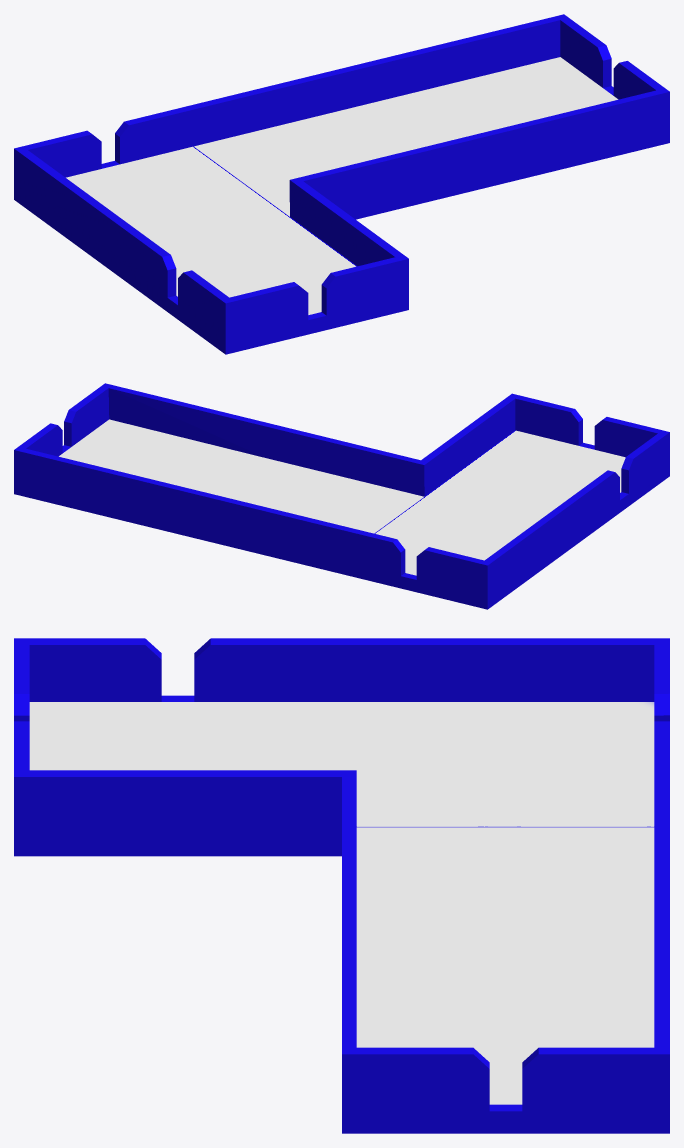
Rendered from dungeon_tile_big_l.obj.
3 renders of one model, top to bottom at view 1: azimuth 30°, elevation 25°; view 2: azimuth 150°, elevation 25°; view 3: azimuth 270°, elevation 25°, orthographic. The views are drawn at different scales.
Parts seen in each view (by area): view 1: Room_BigL_Cube.004; view 2: Room_BigL_Cube.004; view 3: Room_BigL_Cube.004.
Part boxes in pixels (<box>): Room_BigL_Cube.004: <box>14,14,669,354</box>; Room_BigL_Cube.004: <box>14,383,669,609</box>; Room_BigL_Cube.004: <box>14,638,669,1133</box>.
Bounding box in the file's own units: 6 × 0.5341 × 4.
Materials: 1 (1 with a texture image).
